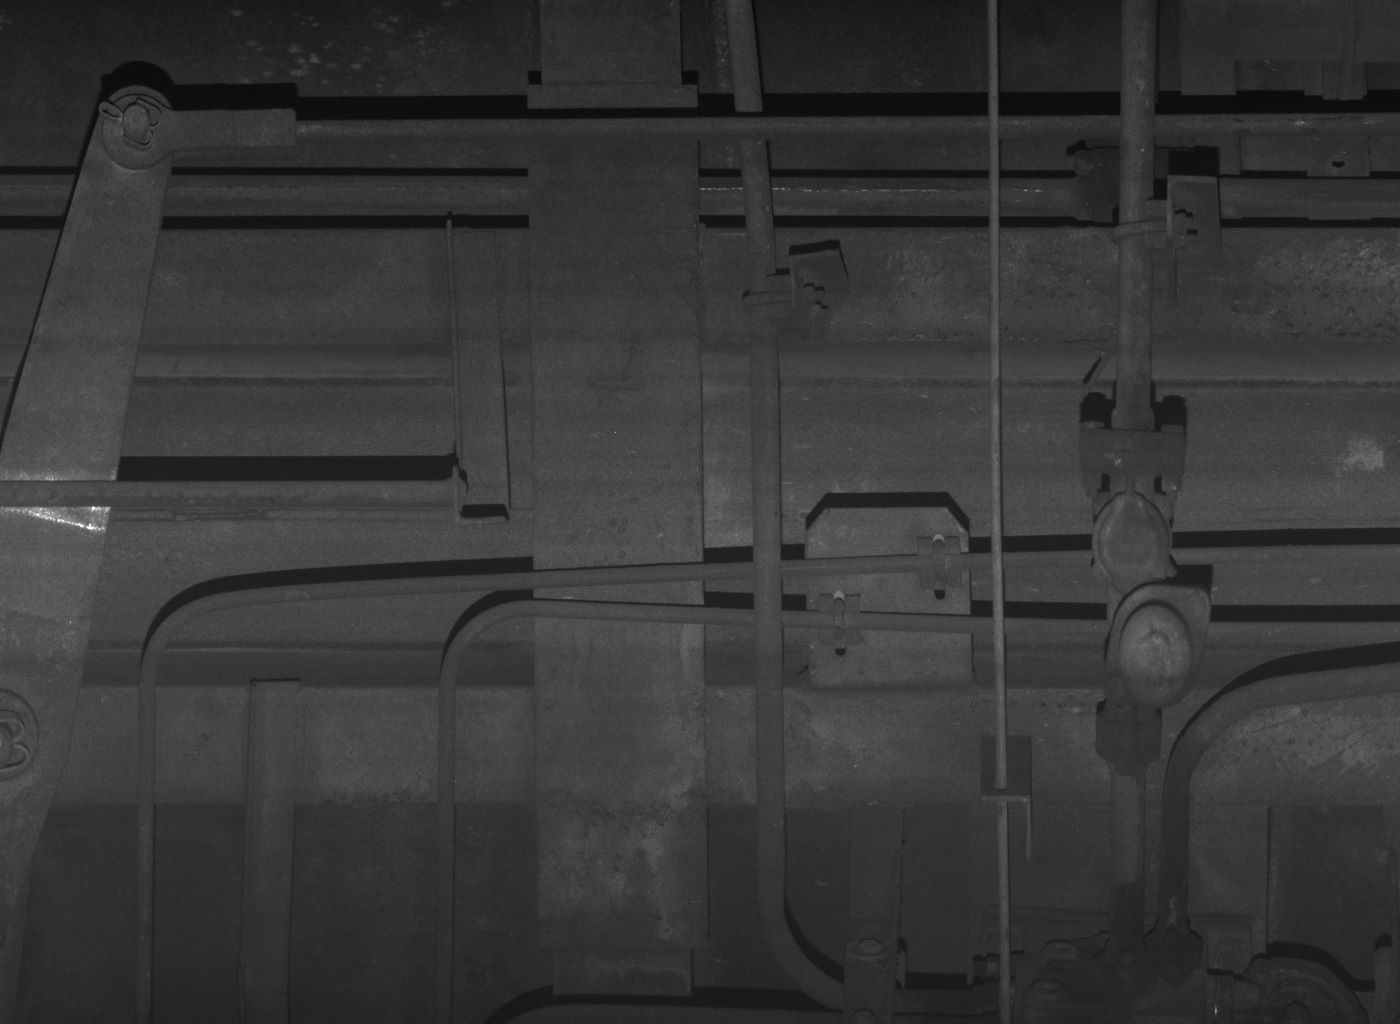normal: (1091, 492, 1179, 594)
